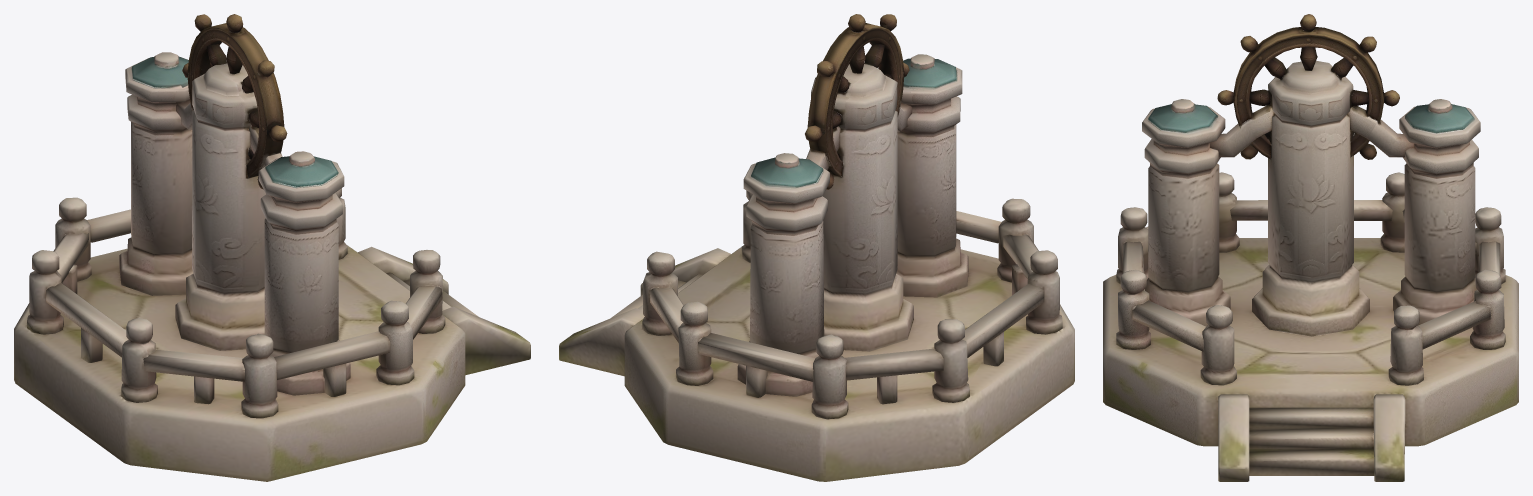
Rendered from tripo_convert_68c5be14-9d3e-4c69-9d32-a366bd35624f.fbx.
3 renders of one model, left to right at view 1: azimuth 30°, elevation 25°; view 2: azimuth 150°, elevation 25°; view 3: azimuth 270°, elevation 25°, orthographic. The views are drawn at different scales.
Visible parts, largest first — view 1: tripo_node_68c5be14; view 2: tripo_node_68c5be14; view 3: tripo_node_68c5be14.
Boxes of the visible parts, bbox=[...] form: tripo_node_68c5be14: bbox=[14, 14, 530, 481]; tripo_node_68c5be14: bbox=[559, 14, 1074, 481]; tripo_node_68c5be14: bbox=[1103, 14, 1518, 481].
Bounding box in the file's own units: 0.998 × 0.8535 × 0.916.
1 material, 1 textured.
